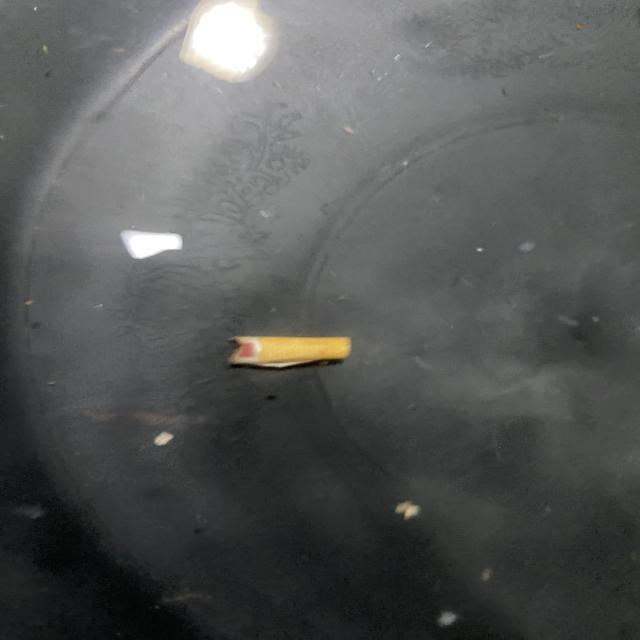Cigarette Filter: (228, 336, 351, 369)
